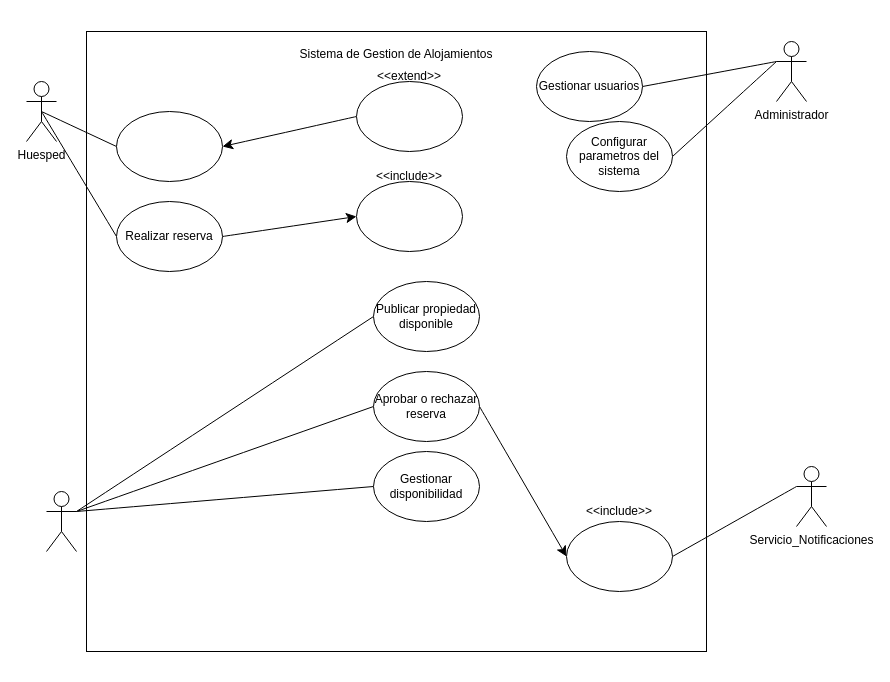
Image size: 890x682. Some labels were removed from this diagram. Each missing label, with the centre of its shape:
"Anfitrion" goes at (61,521).
"Buscar alojamiento" goes at (169,146).
"Filtrar por criterios" goes at (409,116).
"Notificar huesped de desicion" goes at (619,556).
"Validar disponiblidad de fechas" goes at (409,216).
